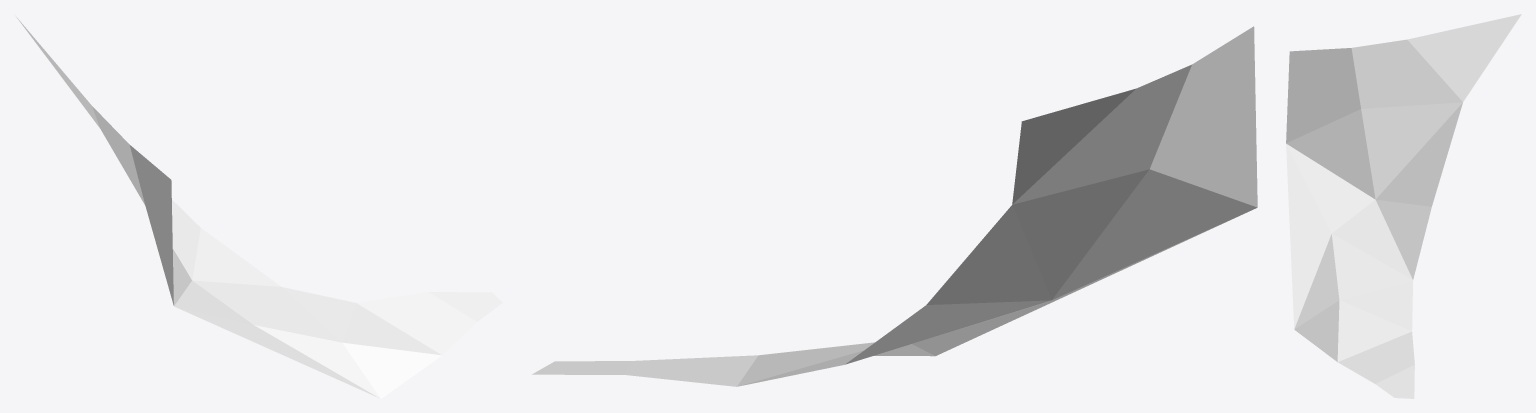
Rendered from SM_Env_SpiderWeb_02.fbx.
3 views of the same model, side by side, from view 1: azimuth 30°, elevation 25°; view 2: azimuth 150°, elevation 25°; view 3: azimuth 270°, elevation 25° (orthographic). The views are drawn at different scales.
Parts seen in each view (by area): view 1: SM_Env_SpiderWeb_02; view 2: SM_Env_SpiderWeb_02; view 3: SM_Env_SpiderWeb_02.
Boxes of the visible parts, bbox=[...] form: SM_Env_SpiderWeb_02: bbox=[16, 17, 502, 398]; SM_Env_SpiderWeb_02: bbox=[532, 26, 1257, 386]; SM_Env_SpiderWeb_02: bbox=[1286, 14, 1521, 398].
Size of the model in its own units: 116 by 88.87 by 79.48.
